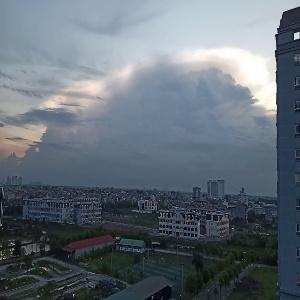drone: (4, 200, 67, 263)
